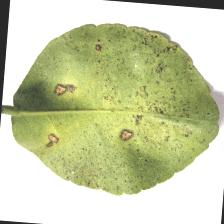canker: (124, 46, 194, 114)
